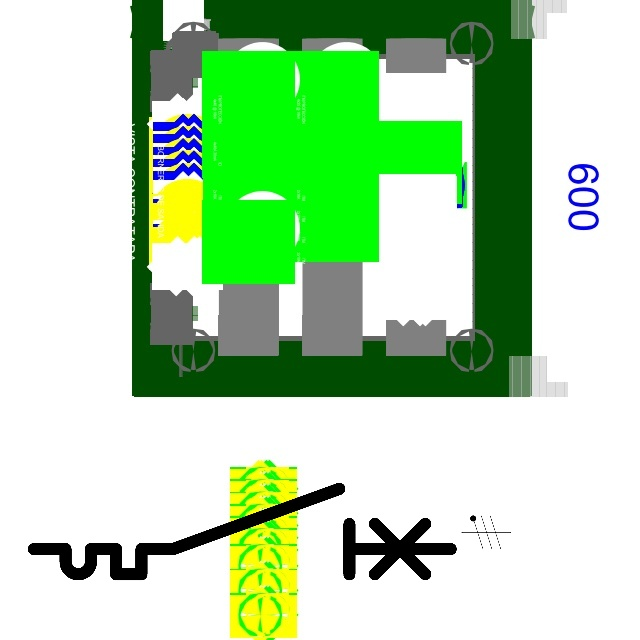interruptor_termomagnetico: (23, 478, 461, 585)
